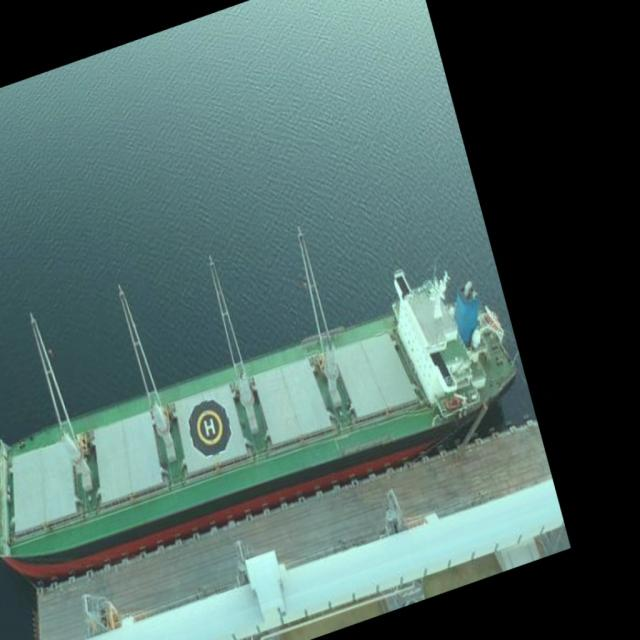helipad: (194, 407, 222, 445)
